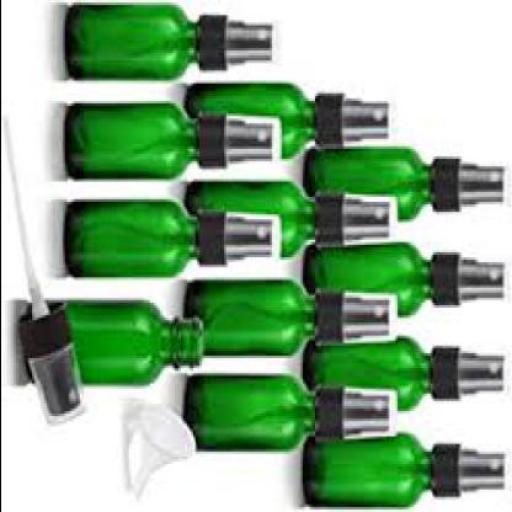glass: (44, 298, 206, 384), (185, 277, 318, 358), (65, 2, 200, 79), (66, 98, 199, 176), (66, 199, 200, 275), (186, 373, 320, 449), (301, 239, 431, 316), (303, 430, 434, 504), (303, 332, 434, 406), (186, 178, 316, 252), (304, 146, 436, 217), (192, 83, 316, 155)
plastic: (4, 121, 87, 422), (128, 401, 196, 497), (201, 108, 283, 169), (198, 207, 283, 262), (318, 186, 398, 242), (320, 381, 399, 436), (318, 290, 398, 343), (202, 13, 279, 68), (433, 443, 511, 495), (433, 156, 511, 208), (436, 343, 508, 398), (316, 94, 394, 144), (438, 250, 508, 303)
